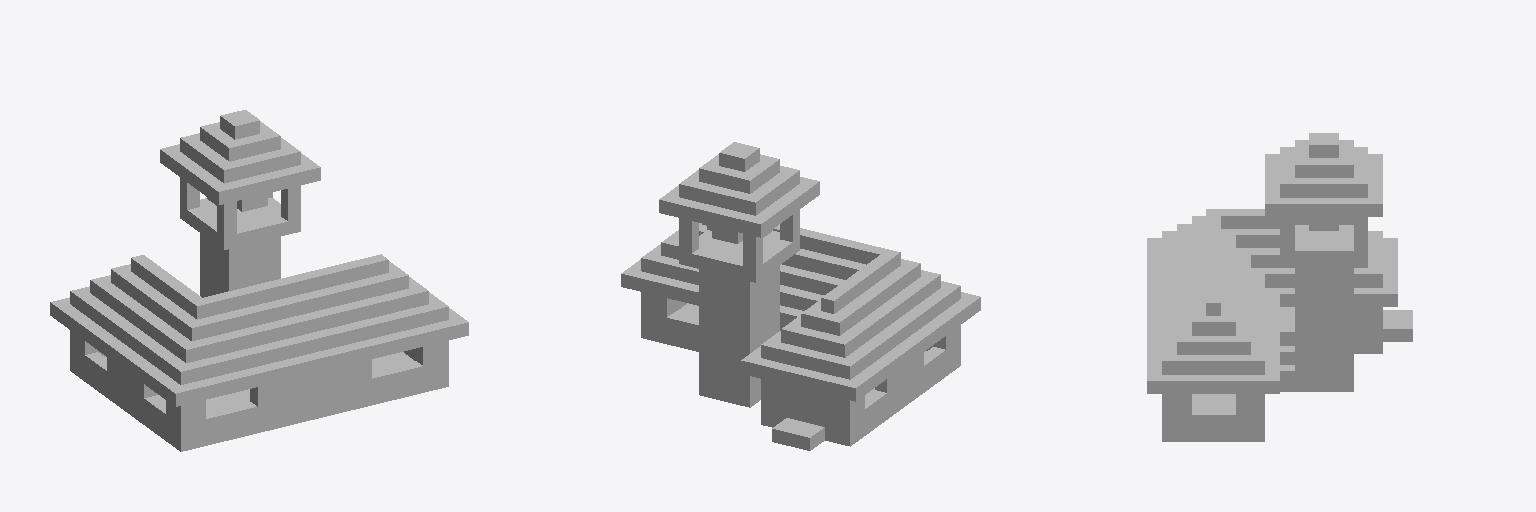
The model's file is Town Hall.obj.
3 renders of one model, left to right at view 1: azimuth 30°, elevation 25°; view 2: azimuth 150°, elevation 25°; view 3: azimuth 270°, elevation 25°, orthographic.
Bounding box in the file's own units: 23 × 18 × 18.